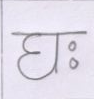anusvara: (69, 42, 77, 51)
